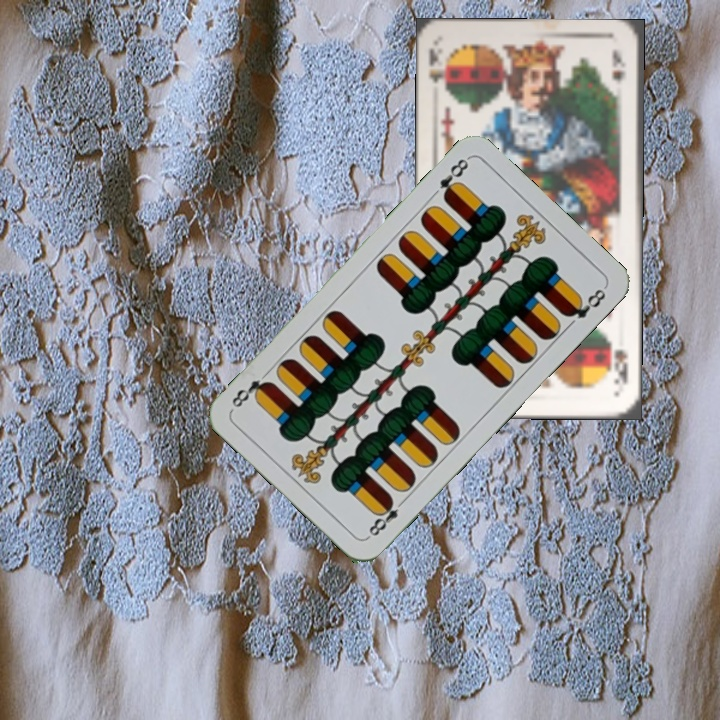E8: (363, 494, 409, 541), (435, 153, 471, 204)
SK: (425, 44, 450, 93), (610, 345, 630, 387)
